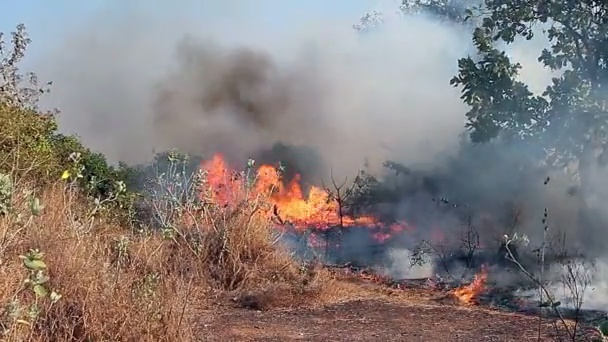fire: (455, 283, 478, 306), (60, 169, 68, 178)
